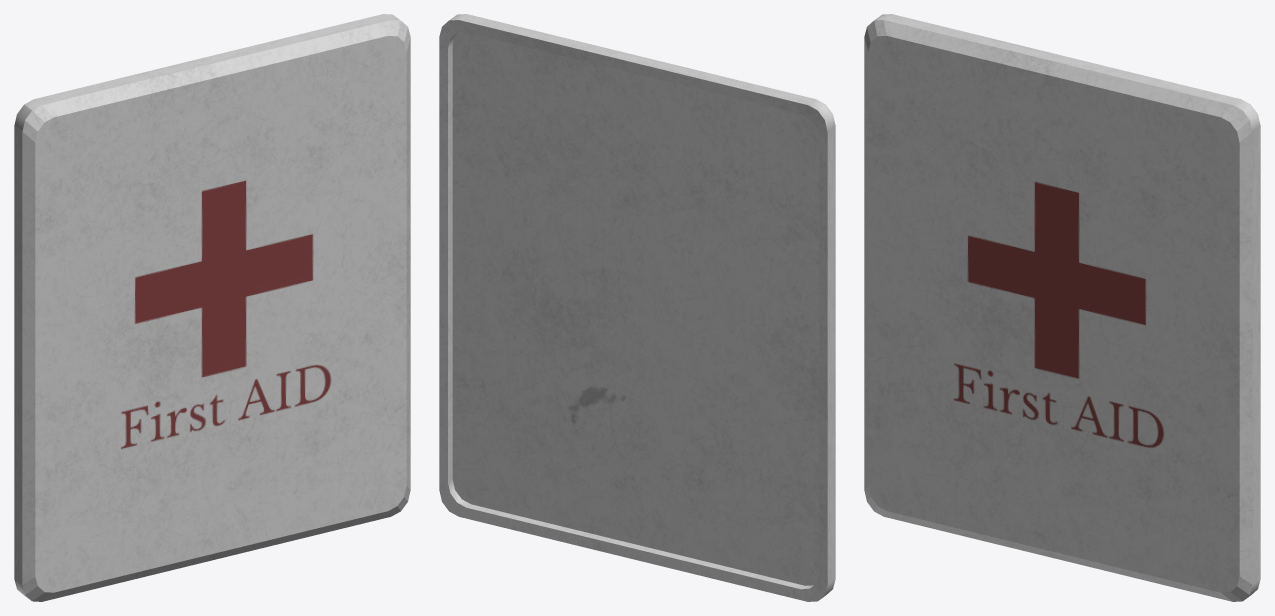
The model's file is FirstAIDdoor.fbx.
3 views of the same model, side by side, from view 1: azimuth 30°, elevation 25°; view 2: azimuth 150°, elevation 25°; view 3: azimuth 330°, elevation 25° (orthographic).
Parts seen in each view (by area): view 1: polySurface11; view 2: polySurface11; view 3: polySurface11.
Part boxes in pixels (bbox=[...]): polySurface11: bbox=[14, 14, 410, 601]; polySurface11: bbox=[439, 14, 835, 601]; polySurface11: bbox=[864, 14, 1260, 601].
Bounding box in the file's own units: 2.04 × 2.5 × 0.1153.
